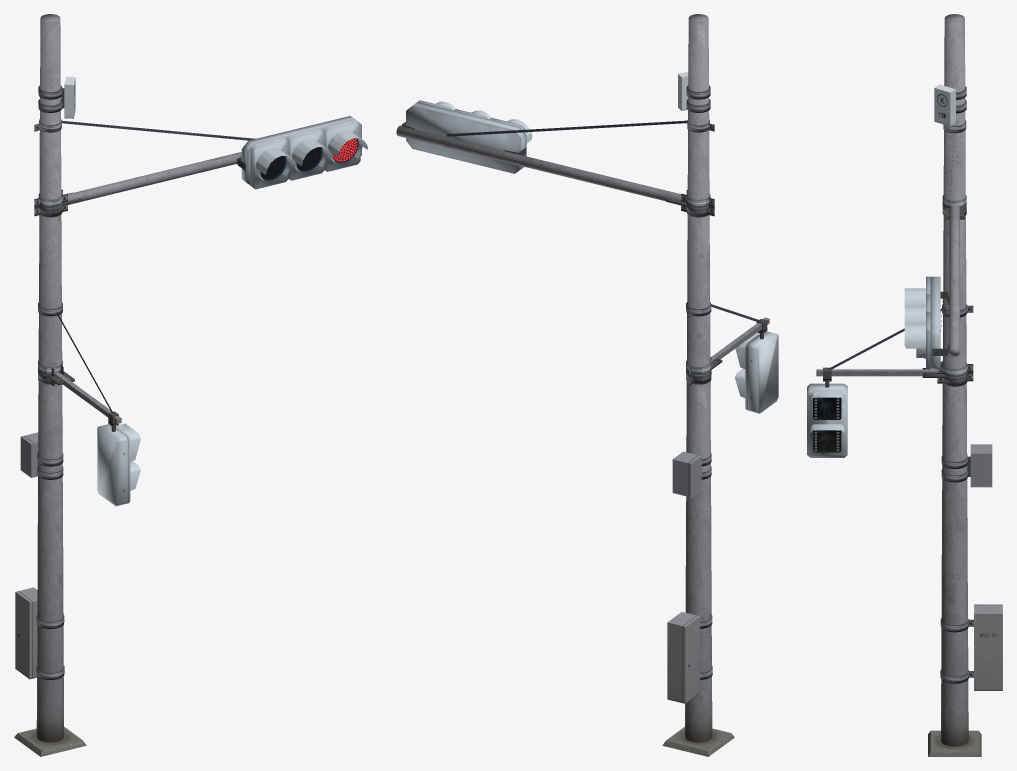
Rendered from Traffic_light_Auto_1_Ped.fbx.
3 views of the same model, side by side, from view 1: azimuth 30°, elevation 25°; view 2: azimuth 150°, elevation 25°; view 3: azimuth 270°, elevation 25° (orthographic).
Parts seen in each view (by area): view 1: 00_pillar, 30_Auto_light, 40_Ped_light, 80_box_L, 10_Auto_bar, 85_box_S, 86_box_SS, 20_Auto_latch_bar; view 2: 00_pillar, 30_Auto_light, 40_Ped_light, 10_Auto_bar, 80_box_L, 85_box_S, 86_box_SS, 20_Auto_latch_bar; view 3: 00_pillar, 40_Ped_light, 30_Auto_light, 80_box_L, 10_Auto_bar, 85_box_S, 86_box_SS, 72_light_Ped_green, 70_light_Ped_red, 20_Auto_latch_bar.
Boxes of the visible parts, x1,y1,x2,y2 form: 00_pillar: (14,14,86,756); 30_Auto_light: (62,116,367,189); 40_Ped_light: (38,302,140,506); 80_box_L: (15,587,64,679); 10_Auto_bar: (68,152,241,201); 85_box_S: (20,432,63,479); 86_box_SS: (38,76,75,118); 20_Auto_latch_bar: (34,189,82,217); 00_pillar: (662,14,734,756); 30_Auto_light: (401,100,687,173); 40_Ped_light: (686,302,778,413); 10_Auto_bar: (396,125,680,201); 80_box_L: (667,612,712,703); 85_box_S: (672,451,711,497); 86_box_SS: (678,72,710,112); 20_Auto_latch_bar: (666,190,714,217); 00_pillar: (928,14,981,756); 40_Ped_light: (807,304,973,457); 30_Auto_light: (904,131,954,370); 80_box_L: (940,604,1002,690); 10_Auto_bar: (949,205,959,356); 85_box_S: (941,444,992,487); 86_box_SS: (934,84,966,126); 72_light_Ped_green: (813,430,841,452); 70_light_Ped_red: (813,397,841,419); 20_Auto_latch_bar: (942,195,966,219).
Size of the model in its own units: 3.51 by 7.5 by 1.83.
